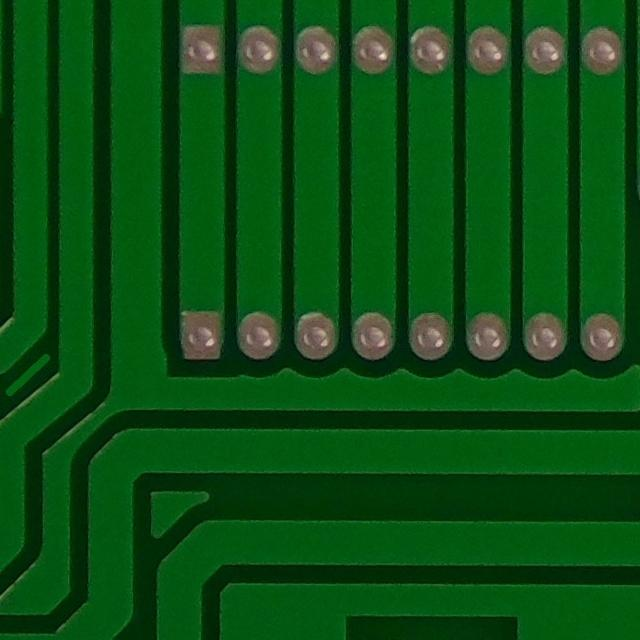spurious_copper: (0, 346, 60, 404)
